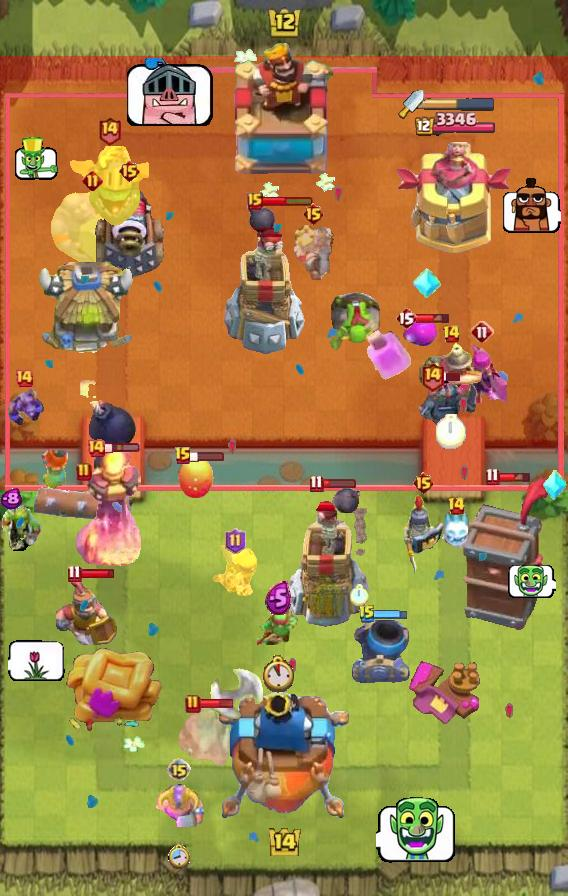archer-evolution: (457, 341, 507, 403)
axe: (209, 658, 265, 720)
bar: (261, 195, 314, 207), (104, 442, 141, 454), (189, 450, 225, 462), (497, 471, 532, 483), (416, 312, 451, 324), (79, 568, 116, 579), (373, 609, 409, 620), (321, 478, 357, 489), (199, 698, 234, 709), (442, 371, 462, 382)
bar-level: (420, 361, 445, 392), (97, 115, 122, 146), (167, 758, 191, 782), (470, 320, 494, 344), (412, 471, 435, 495), (302, 202, 325, 226), (118, 159, 141, 183), (225, 528, 246, 554), (395, 306, 417, 330), (82, 170, 103, 191), (86, 438, 106, 458), (14, 368, 34, 388), (447, 496, 466, 516), (442, 324, 461, 344), (358, 604, 376, 624), (174, 446, 192, 466), (185, 694, 201, 714), (76, 462, 92, 482), (247, 192, 263, 210), (67, 564, 82, 583), (309, 474, 324, 493), (485, 467, 500, 486)
barbarian-evolution: (211, 545, 259, 598)
bomb: (77, 380, 137, 452)
clock: (260, 655, 296, 693), (436, 414, 466, 449), (168, 844, 190, 870), (350, 584, 369, 606)
dagger-duchess-tower: (394, 142, 512, 256)
dagger-duchess-tower-bar: (424, 97, 496, 111)
dirt: (348, 508, 371, 558)
elite-barbarian: (155, 784, 204, 827)
elixir: (265, 581, 292, 615), (0, 488, 22, 510)
elixir-golem-small: (402, 318, 438, 348)
emote: (127, 58, 216, 126), (376, 796, 457, 864), (501, 177, 561, 234), (8, 640, 65, 681), (13, 137, 60, 182), (507, 563, 556, 600)
goblin: (0, 504, 44, 554)
goblin-ball: (327, 291, 381, 353)
guard: (401, 493, 445, 575)
ice-spirit: (434, 510, 479, 552)
ice-spirit-evolution-symbol: (413, 266, 441, 300), (542, 469, 568, 501)
king-tower: (219, 692, 349, 826), (228, 41, 340, 181)
miner: (417, 337, 485, 405)
mini-pekka: (418, 381, 480, 429)
minion: (4, 385, 44, 429)
mortar: (350, 619, 410, 683)
phoenix-egg: (176, 456, 216, 500)
royal-ghost: (176, 703, 234, 771), (292, 222, 334, 280)
royal-recruit: (56, 578, 118, 654)
spear-goblin: (257, 607, 299, 645)
the-log: (34, 487, 134, 523)
tower-bar: (412, 112, 495, 138)
valkyrie: (35, 444, 73, 496)
